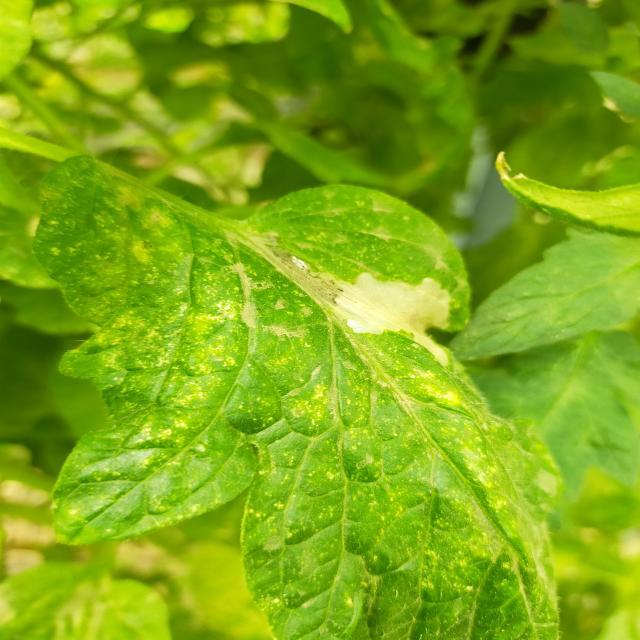Tuta absoluta: (300, 235, 488, 372)
